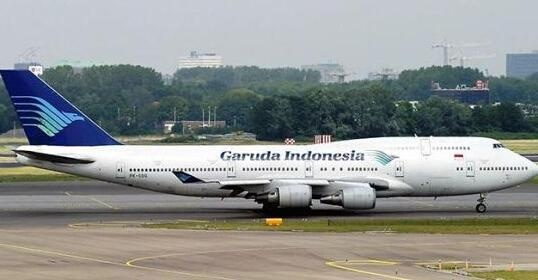airplane: (1, 75, 538, 217)
